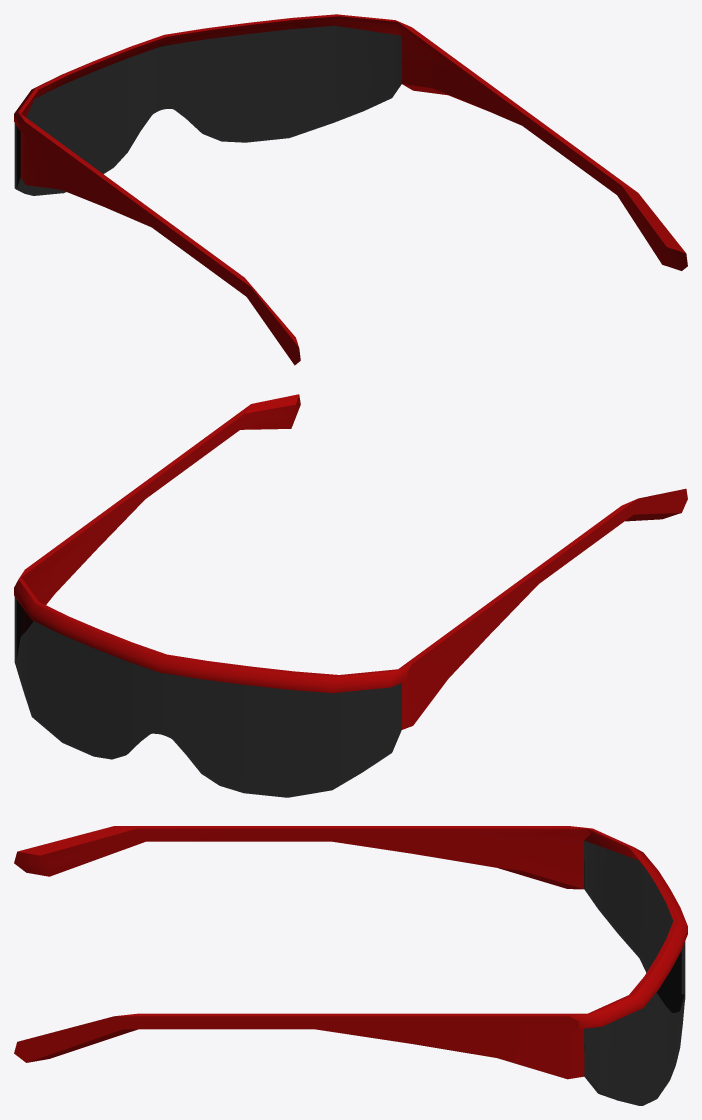
File: SunGlasses.fbx
The picture shows the model from 3 angles, top to bottom: view 1: azimuth 30°, elevation 25°; view 2: azimuth 150°, elevation 25°; view 3: azimuth 270°, elevation 25°; orthographic projection.
Parts seen in each view (by area): view 1: SunGlasses2; view 2: SunGlasses2; view 3: SunGlasses2.
Part boxes in pixels (x1,y1,x2,y2): SunGlasses2: (14,14,687,365); SunGlasses2: (14,394,687,797); SunGlasses2: (14,826,687,1105).
Bounding box in the file's own units: 11.16 × 3.35 × 16.72.
